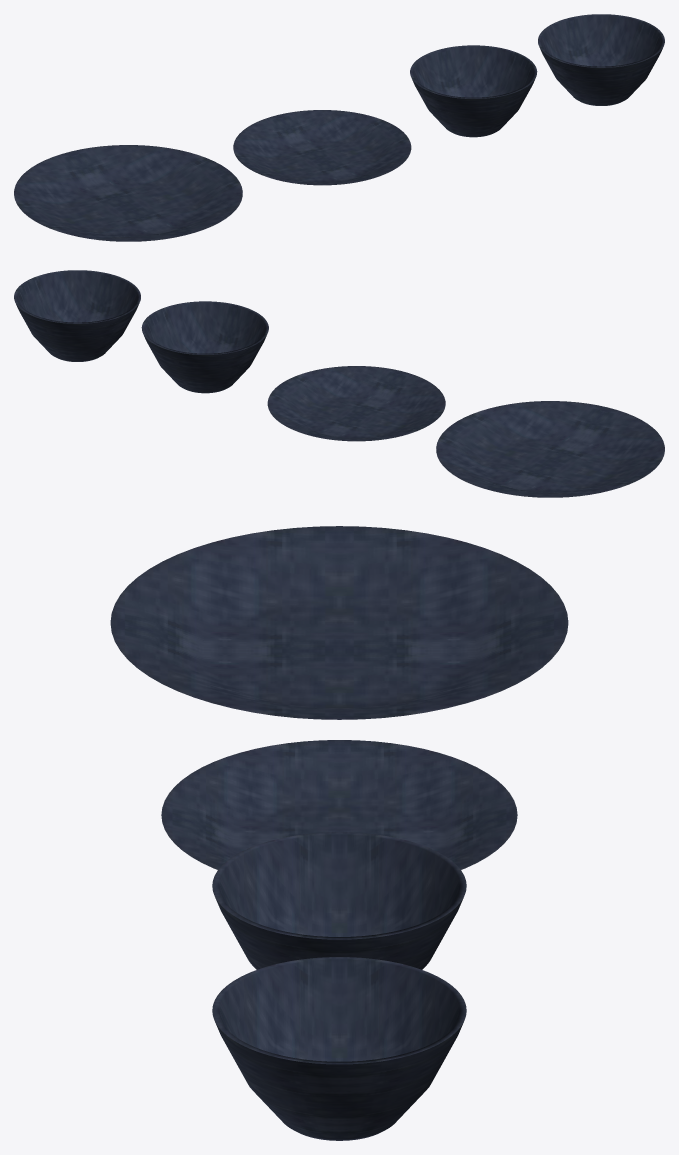
Rendered from GRL-01.glb.
The picture shows the model from 3 angles, top to bottom: view 1: azimuth 30°, elevation 25°; view 2: azimuth 150°, elevation 25°; view 3: azimuth 270°, elevation 25°; orthographic projection. The views are drawn at different scales.
Size of the model in its own units: 0.854 by 0.07 by 0.27.
Materials: 8 (8 with a texture image).
